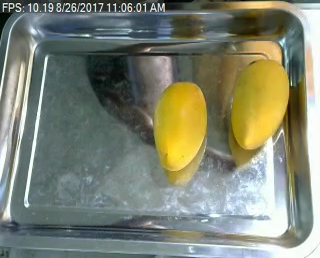Mango: (224, 53, 291, 152), (153, 77, 209, 171)
